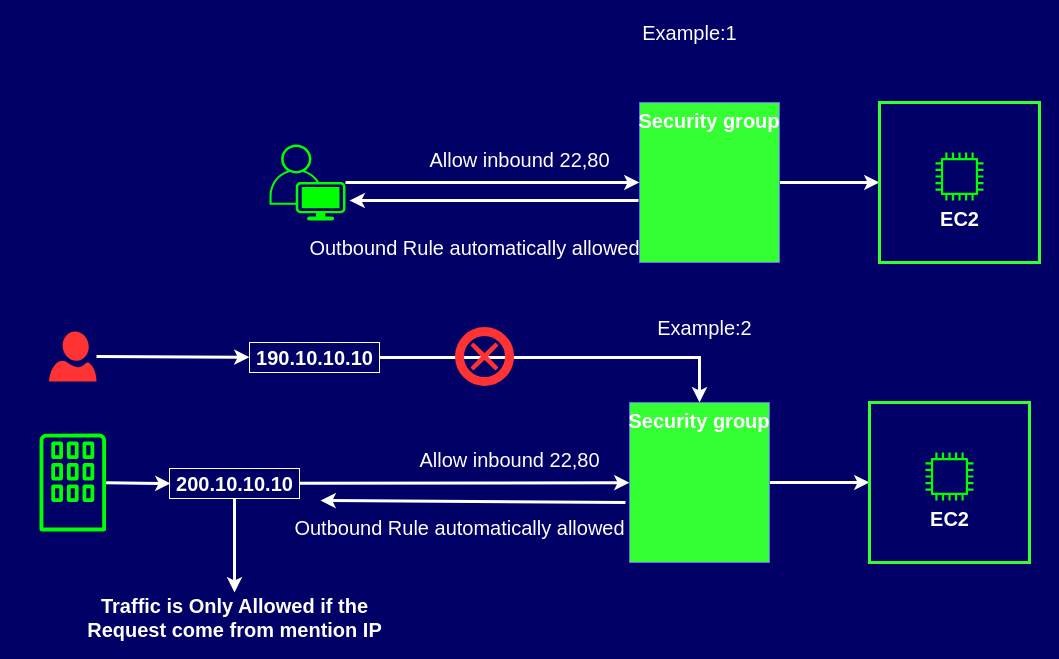
Image size: 1059x659. Some labels were removed from this diagram. Here are the shapes that lost their labels. From the top down, the centre of each, then its label:
the point at 72,356: Bad Guy
the point at 72,482: Data Center
